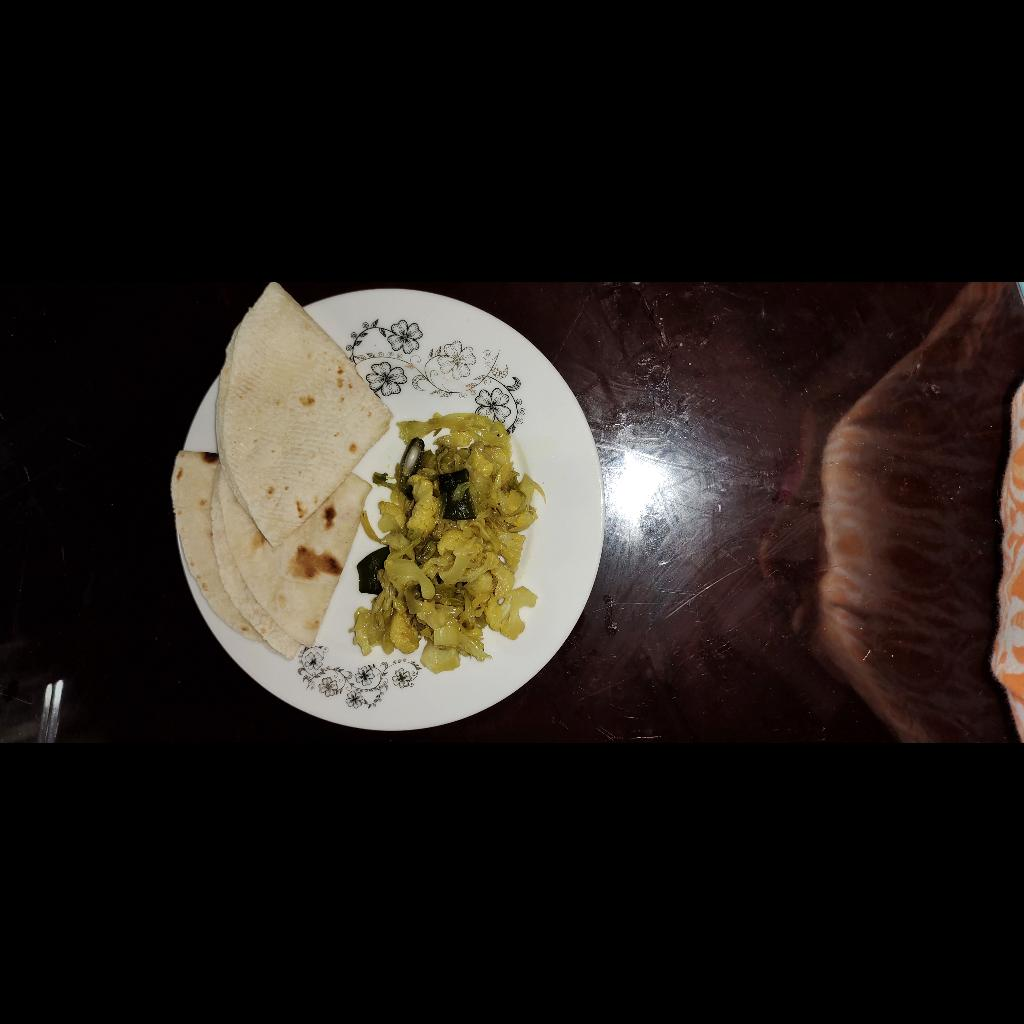cauliflower: (69, 631, 329, 823)
ruti: (84, 447, 461, 677)
